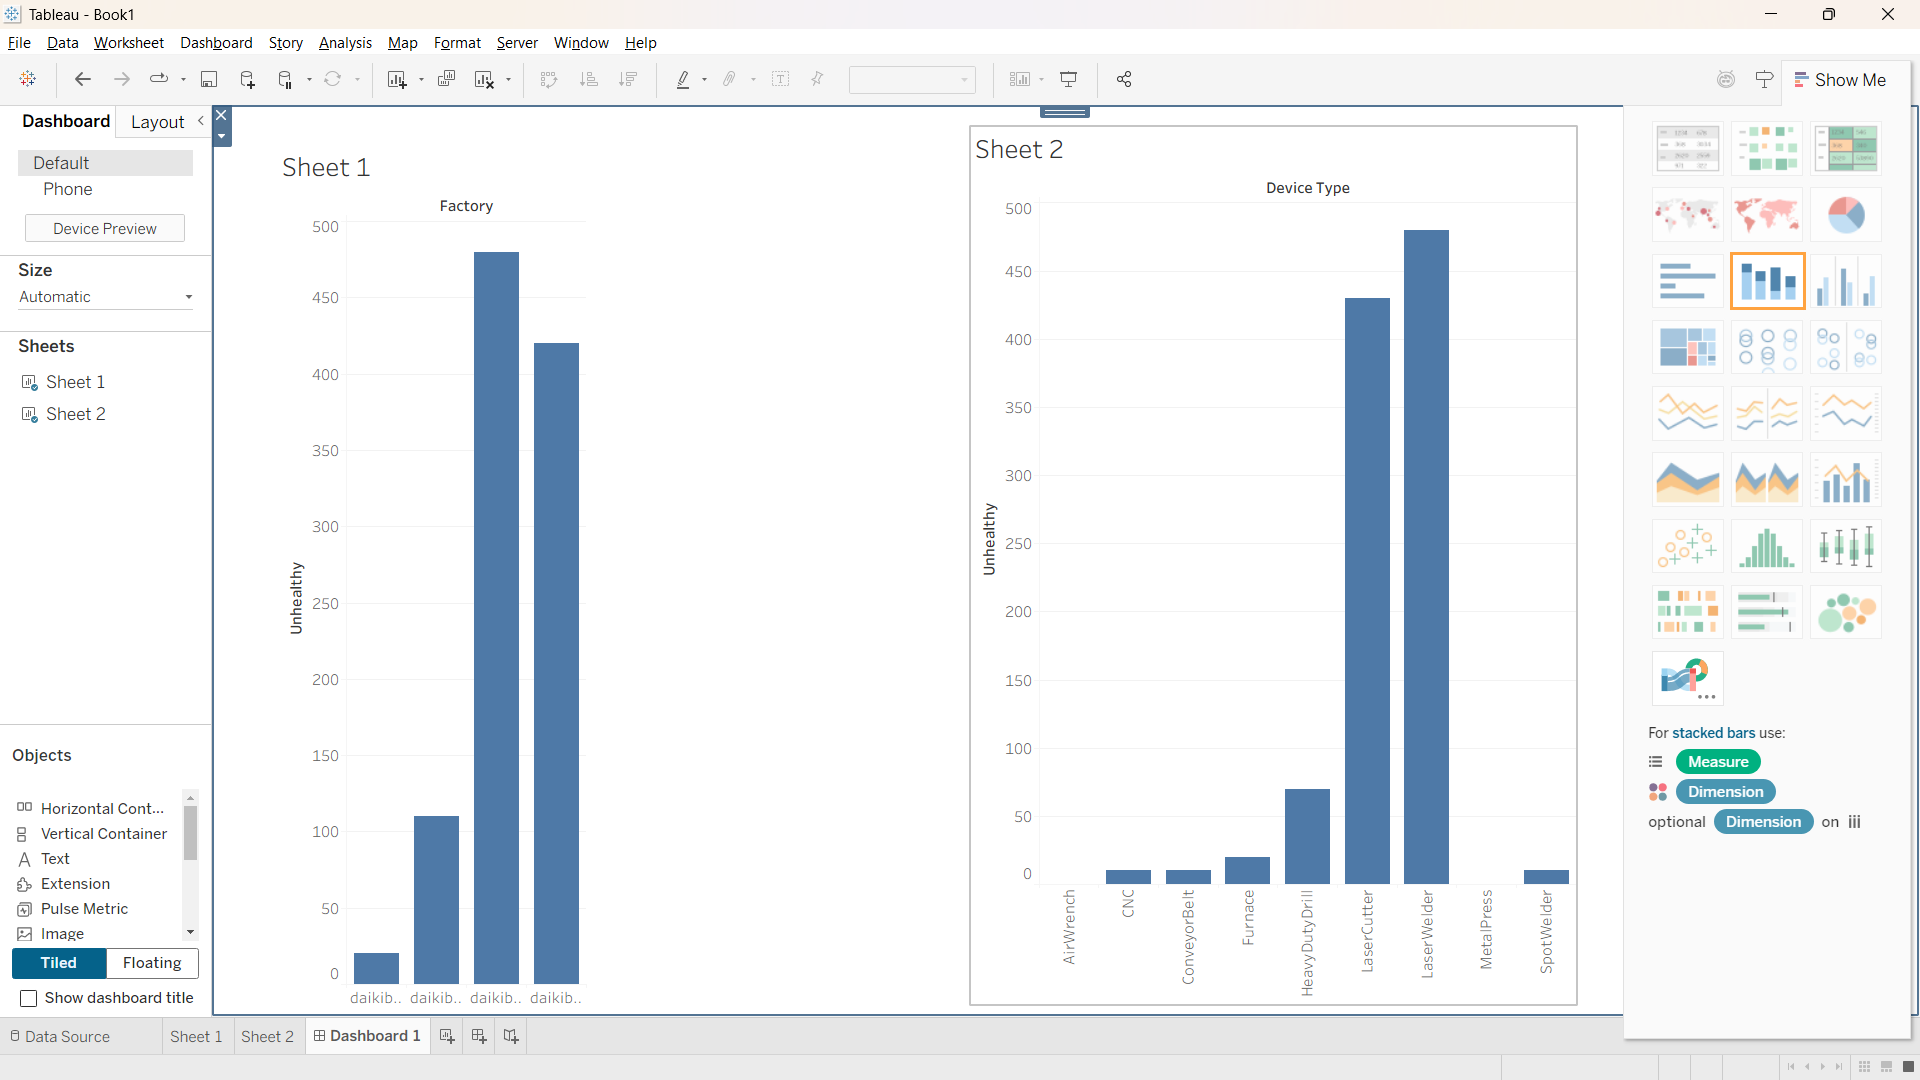

This screenshot's page, from the dashboard's own definition file:
{"tool":"tableau","page":{"name":"Dashboard 1","canvas":[1000,1000],"units":"permille","ordinal":0},"visuals":[{"type":"worksheet","title":"Sheet 2","mark":"Automatic","rows":["Calculation_1232841711632385"],"cols":["deviceType"],"box":[444.8,24.2,354.2,962.7]},{"type":"worksheet","title":"Sheet 1","mark":"Automatic","rows":["Calculation_1232841711632385"],"cols":["factory"],"box":[38.6,43.9,333.1,948.4]}]}

Visuals, with their boxes on the dashboard's canvas, which has no fixed pixel size, in thousandths of its width and height (x1, y1, x2, y2). These are canvas units, not pixel positions in the 1920x1080 screenshot, which may show the page scaled, cropped or inside an application window:
"Sheet 2" worksheet: (left=445, top=24, right=799, bottom=987)
"Sheet 1" worksheet: (left=39, top=44, right=372, bottom=992)
